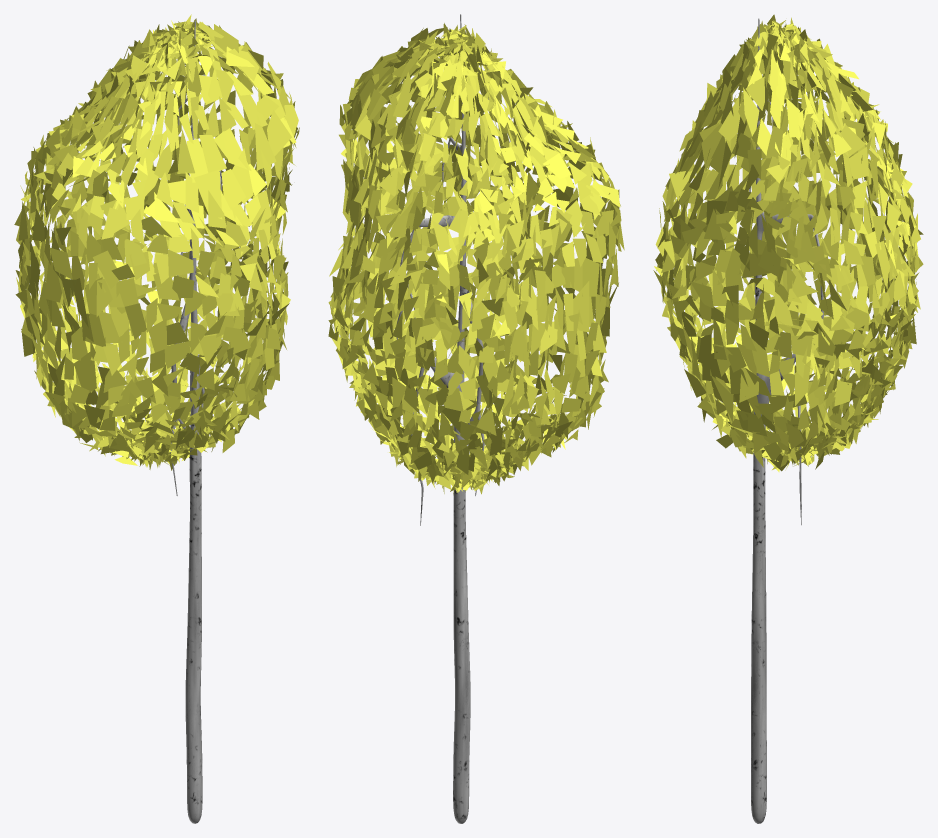
File: Leaves44.002.fbx
3 renders of one model, left to right at view 1: azimuth 30°, elevation 25°; view 2: azimuth 150°, elevation 25°; view 3: azimuth 270°, elevation 25°, orthographic.
Visible parts, largest first — view 1: Leaves44.002; view 2: Leaves44.002; view 3: Leaves44.002.
Part boxes in pixels (box(x1,y1,x2,y2)): Leaves44.002: box(14, 14, 299, 823); Leaves44.002: box(328, 14, 624, 823); Leaves44.002: box(653, 14, 923, 823).
Size of the model in its own units: 873 by 2574 by 783.
Materials: 2 (1 with a texture image).
